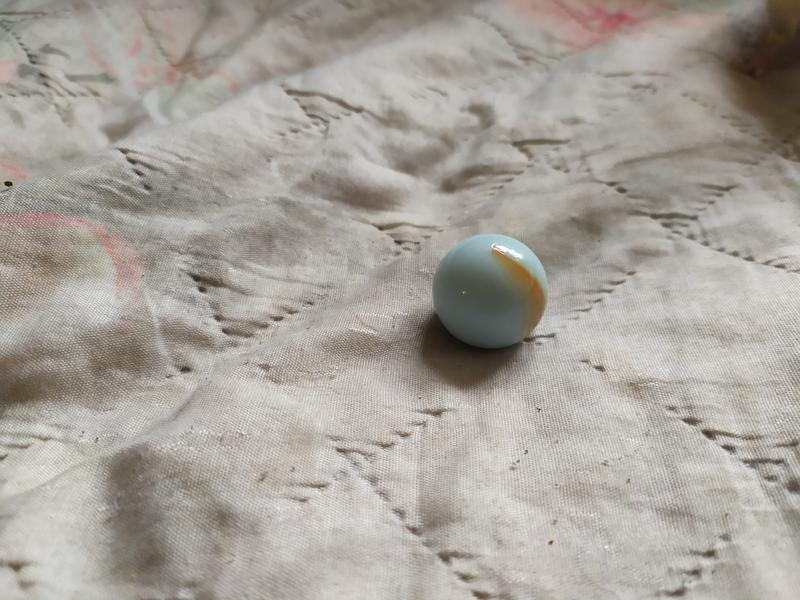Warning: (430, 231, 553, 353)
